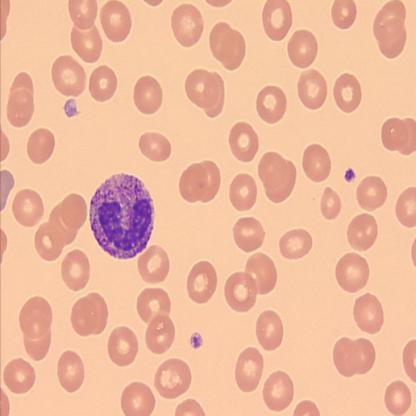Band Neutrophil: (87, 168, 154, 262)
